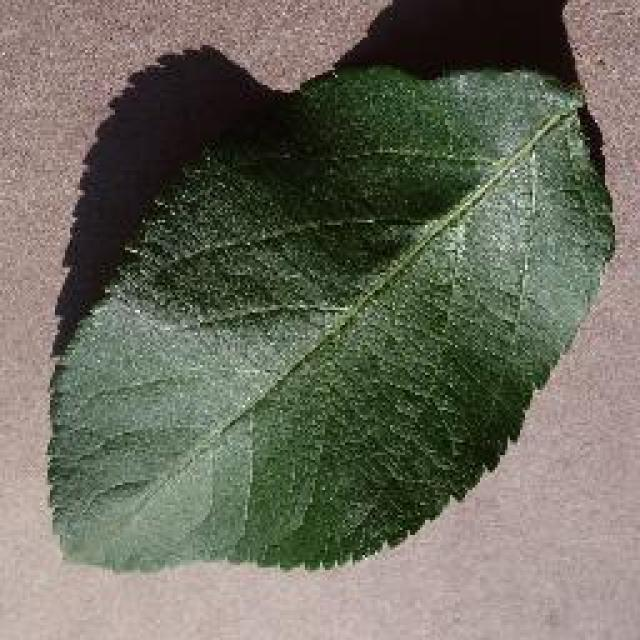apple healthy: (42, 50, 618, 575)
